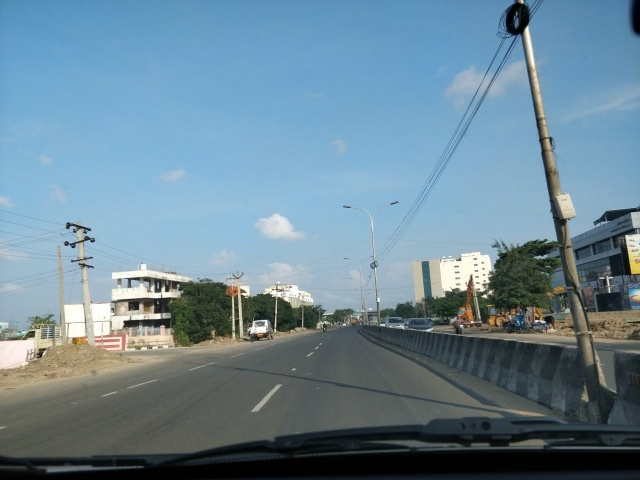car: (404, 317, 433, 332), (252, 318, 272, 337)
motorbike: (449, 313, 469, 336), (317, 319, 332, 334)
